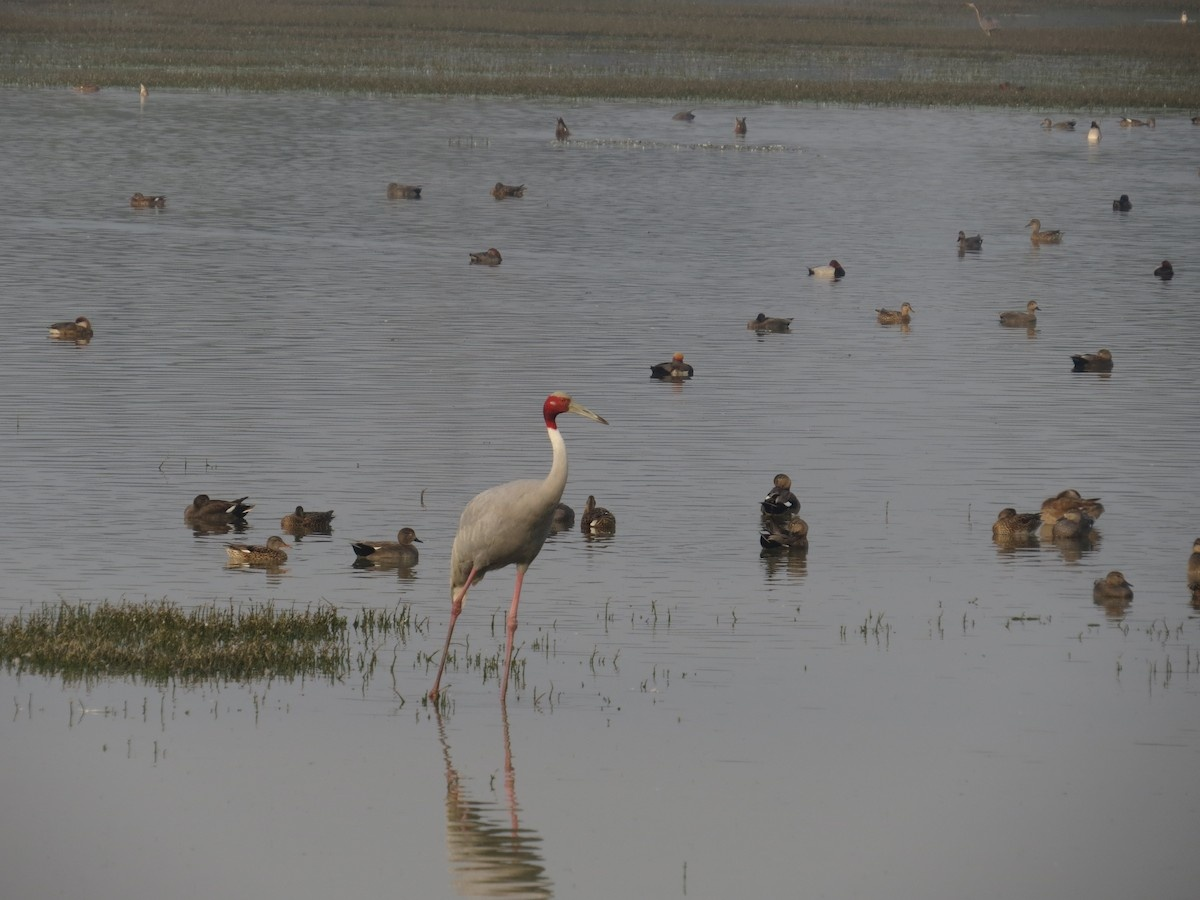crane: (418, 381, 618, 712)
